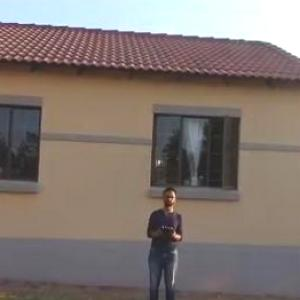follow: (138, 182, 186, 299)
